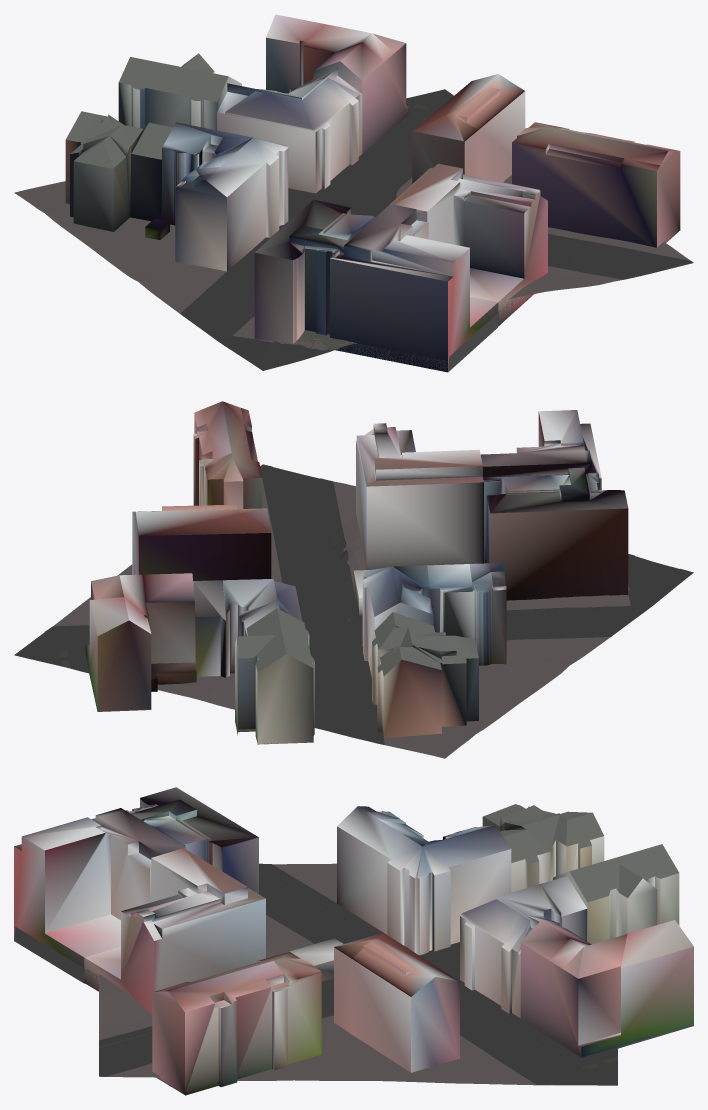
3 renders of one model, top to bottom at view 1: azimuth 30°, elevation 25°; view 2: azimuth 150°, elevation 25°; view 3: azimuth 270°, elevation 25°, orthographic. The views are drawn at different scales.
Parts seen in each view (by area): view 1: c_m13_m12; view 2: c_m13_m12; view 3: c_m13_m12.
Part boxes in pixels (x1=…): c_m13_m12: x1=14, y1=14, x2=693, y2=372; c_m13_m12: x1=14, y1=401, x2=693, y2=758; c_m13_m12: x1=14, y1=787, x2=693, y2=1095.
Size of the model in its own units: 136 by 31.82 by 168.
